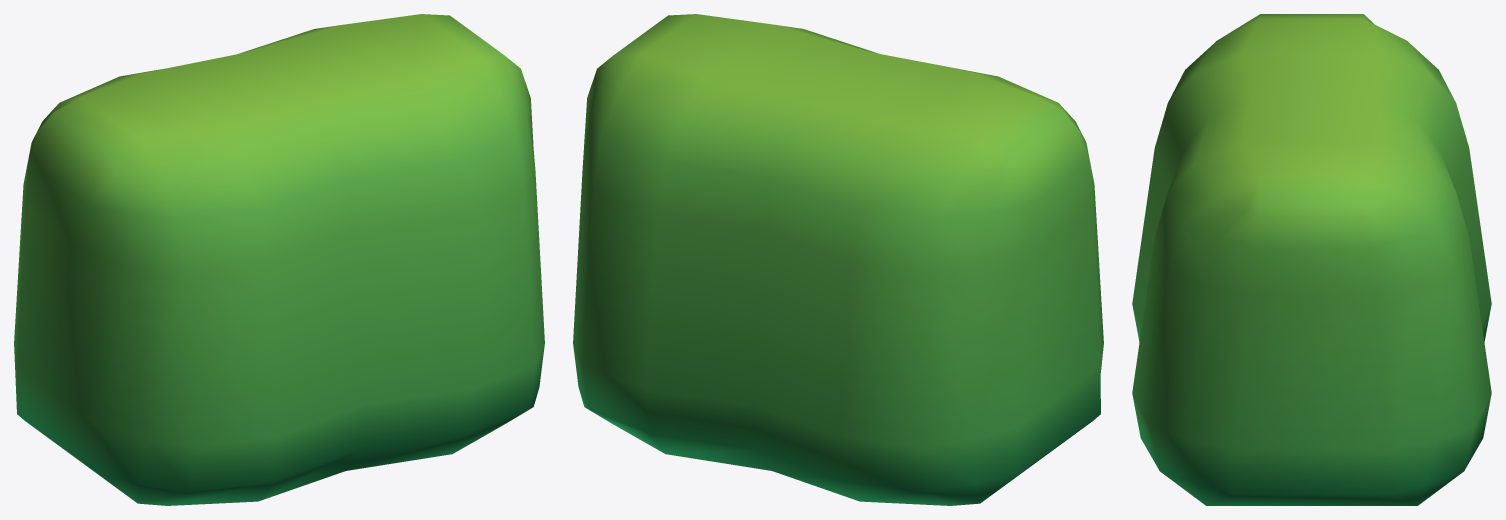
File: hedge_straight.fbx
3 views of the same model, side by side, from view 1: azimuth 30°, elevation 25°; view 2: azimuth 150°, elevation 25°; view 3: azimuth 270°, elevation 25° (orthographic). The views are drawn at different scales.
Parts seen in each view (by area): view 1: hedge_straight; view 2: hedge_straight; view 3: hedge_straight.
Boxes of the visible parts, x1,y1,x2,y2 form: hedge_straight: [14, 14, 544, 505]; hedge_straight: [573, 14, 1103, 505]; hedge_straight: [1132, 14, 1491, 505].
Bounding box in the file's own units: 2 × 1.5 × 1.5.
